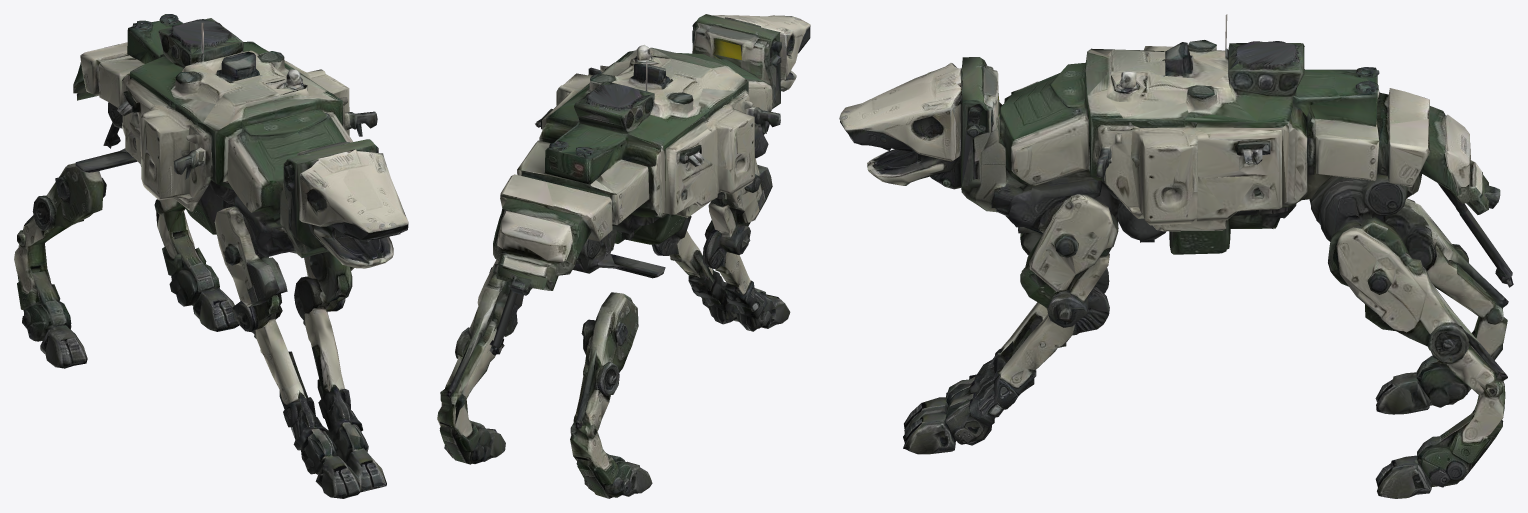
The model's file is t120_dog_lod0.glb.
3 views of the same model, side by side, from view 1: azimuth 30°, elevation 25°; view 2: azimuth 150°, elevation 25°; view 3: azimuth 270°, elevation 25° (orthographic). The views are drawn at different scales.
Bounding box in the file's own units: 0.5552 × 1 × 1.43.
1 material, 1 textured.
